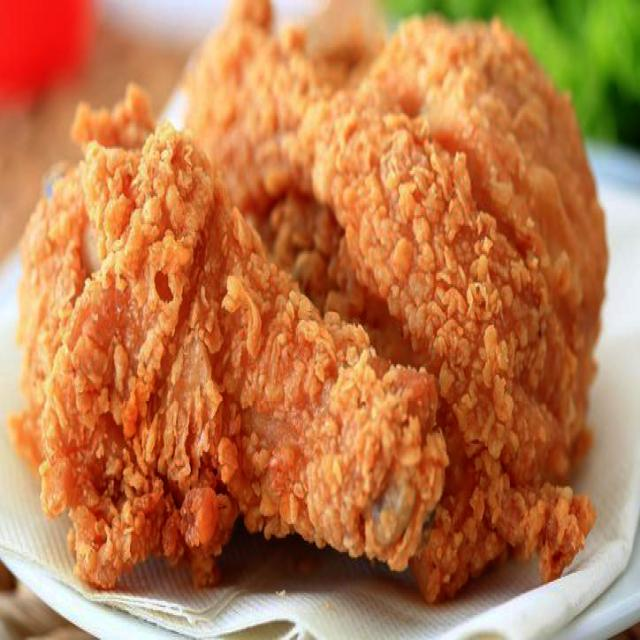fried_chicken: (166, 16, 609, 585), (26, 105, 440, 623)
